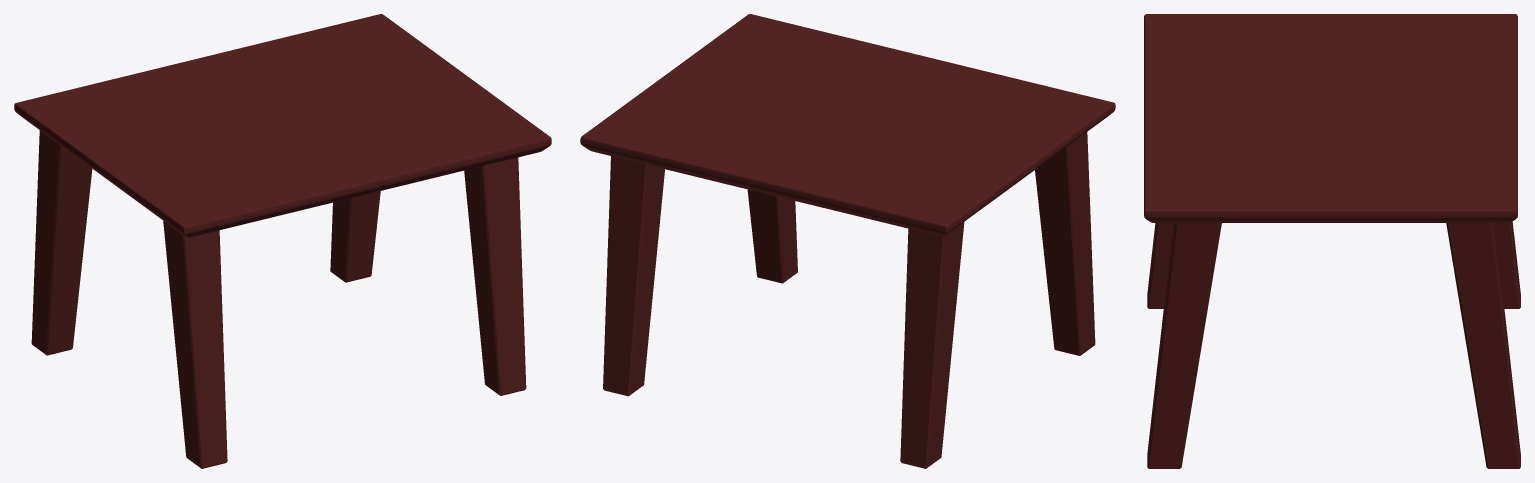
The model's file is table.fbx.
The picture shows the model from 3 angles, left to right: view 1: azimuth 30°, elevation 25°; view 2: azimuth 150°, elevation 25°; view 3: azimuth 270°, elevation 25°; orthographic projection. The views are drawn at different scales.
Parts seen in each view (by area): view 1: pCube1, pCube5, pCube2, pCube4, pCube3; view 2: pCube1, pCube4, pCube3, pCube5, pCube2; view 3: pCube1, pCube2, pCube3, pCube5, pCube4.
Boxes of the visible parts, x1,y1,x2,y2 form: pCube1: [14, 14, 551, 237]; pCube5: [163, 221, 227, 468]; pCube2: [464, 157, 526, 395]; pCube4: [31, 130, 92, 355]; pCube3: [330, 191, 380, 282]; pCube1: [580, 14, 1115, 236]; pCube4: [900, 222, 964, 468]; pCube3: [603, 156, 664, 396]; pCube5: [1035, 132, 1095, 355]; pCube2: [747, 189, 797, 283]; pCube1: [1144, 14, 1517, 222]; pCube2: [1147, 223, 1221, 468]; pCube3: [1446, 223, 1520, 468]; pCube5: [1147, 223, 1173, 308]; pCube4: [1494, 221, 1520, 308].
Bounding box in the file's own units: 5 × 3.21 × 4.03.
